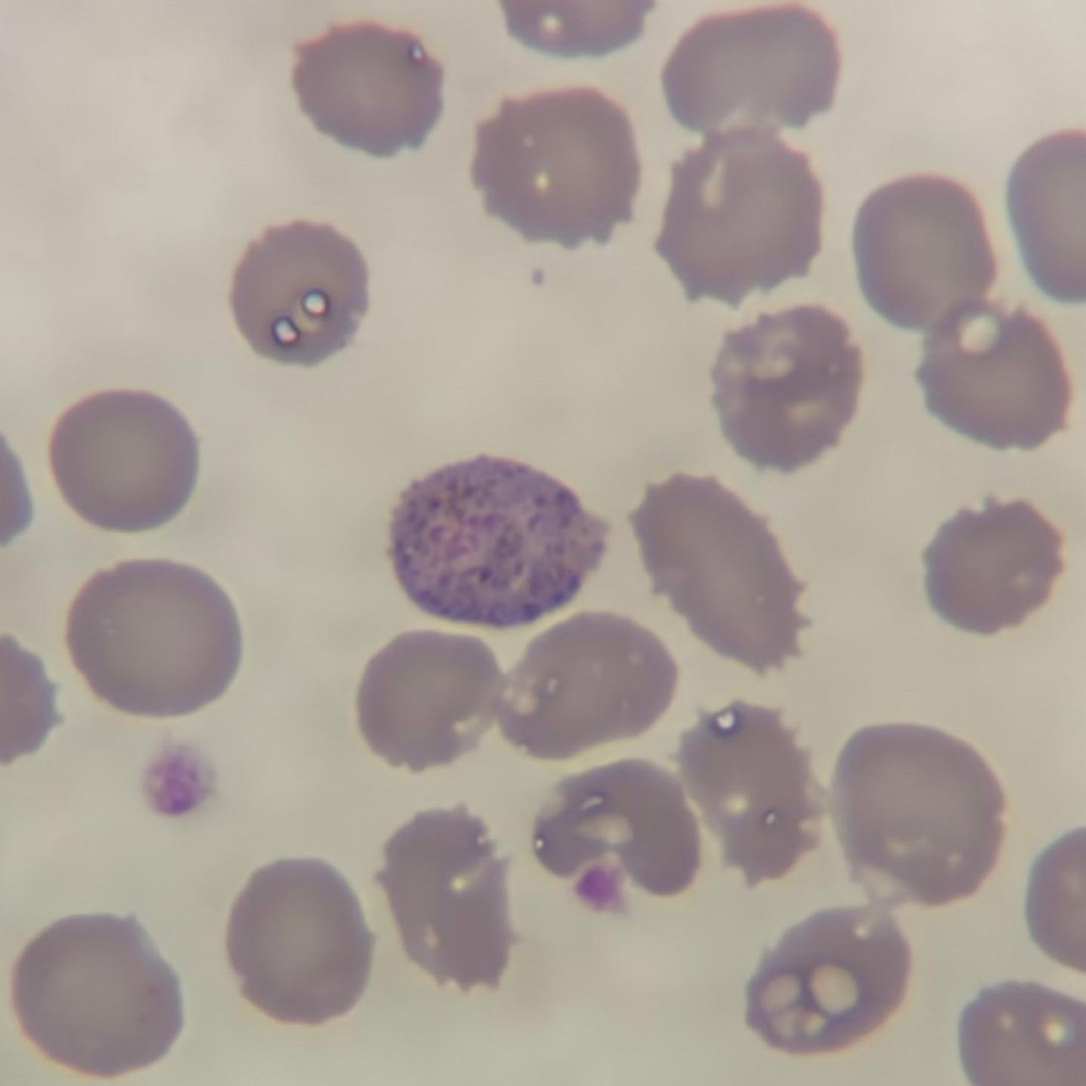Infected: (387, 454, 604, 635)
Uninfected: (636, 466, 798, 677), (830, 715, 1008, 900), (8, 906, 186, 1077), (664, 127, 828, 303), (65, 562, 248, 714), (679, 695, 823, 887), (737, 894, 907, 1055), (468, 91, 634, 248), (226, 851, 374, 1026), (503, 615, 678, 759), (916, 293, 1075, 446), (714, 298, 855, 469), (850, 172, 995, 337), (531, 750, 698, 890), (380, 808, 508, 989), (662, 11, 832, 145), (45, 391, 201, 530), (229, 215, 372, 365), (360, 632, 505, 771), (297, 26, 443, 160), (921, 499, 1060, 637)
